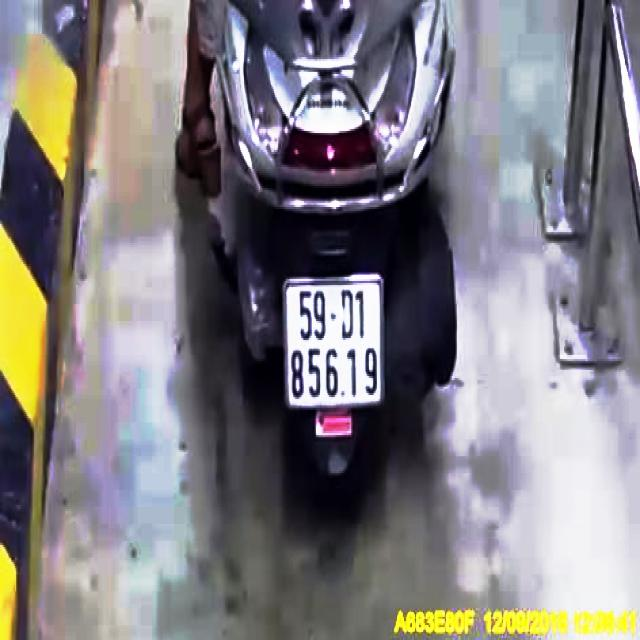license_plate: (283, 281, 384, 409)
